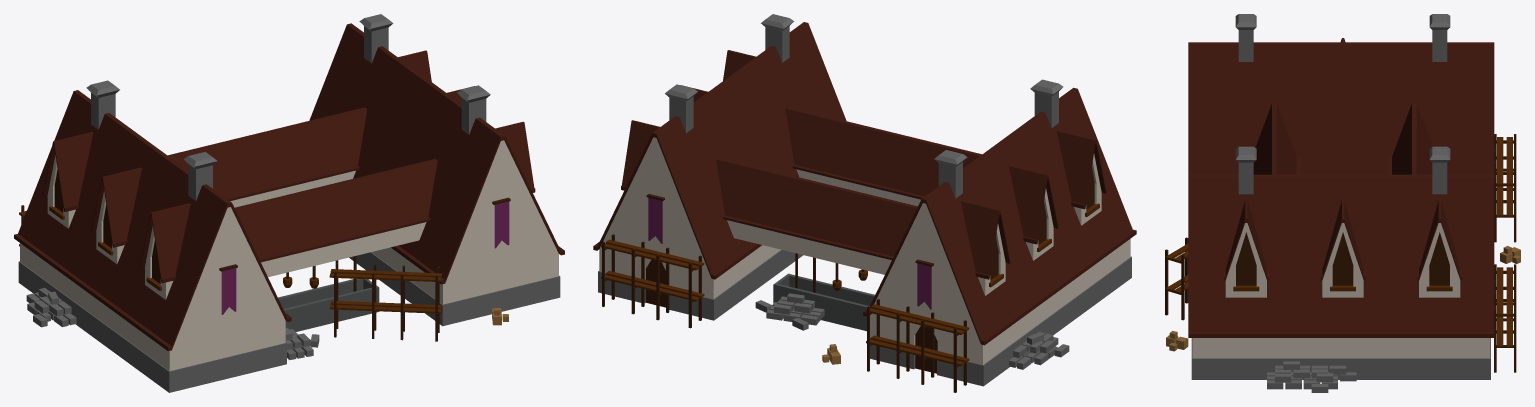
Rendered from MineBuildPhase3v2.fbx.
The picture shows the model from 3 angles, left to right: view 1: azimuth 30°, elevation 25°; view 2: azimuth 150°, elevation 25°; view 3: azimuth 270°, elevation 25°; orthographic projection.
Parts seen in each view (by area): view 1: Plane.434; view 2: Plane.434; view 3: Plane.434.
Part boxes in pixels (x1=…): Plane.434: x1=14, y1=14, x2=564, y2=392; Plane.434: x1=593, y1=14, x2=1136, y2=392; Plane.434: x1=1165, y1=14, x2=1520, y2=392.
Bounding box in the file's own units: 484 × 208 × 329.
